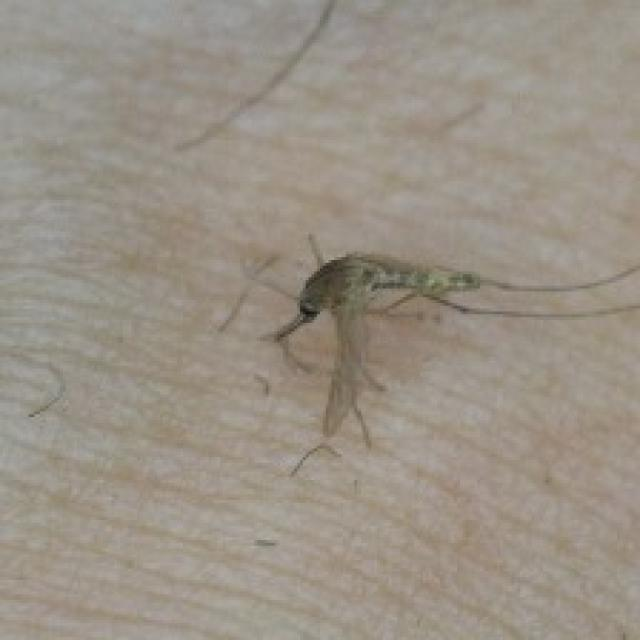culex: (214, 229, 637, 477)
